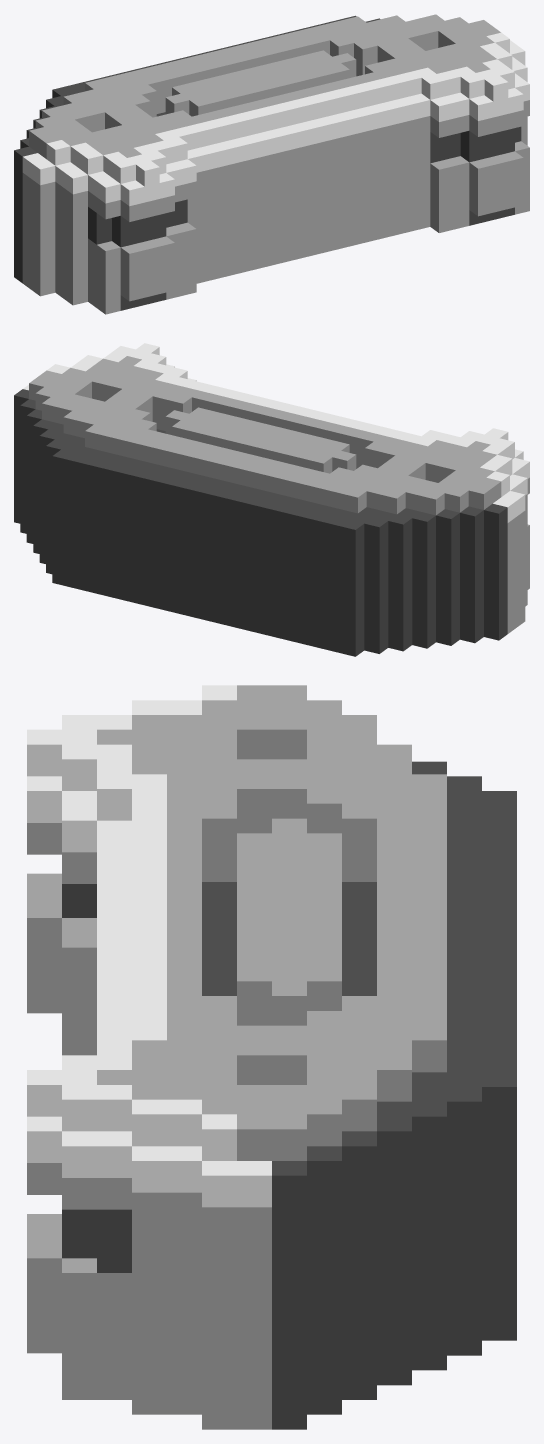
The model's file is InfoConsoleN.obj.
3 renders of one model, top to bottom at view 1: azimuth 30°, elevation 25°; view 2: azimuth 150°, elevation 25°; view 3: azimuth 270°, elevation 25°, orthographic. The views are drawn at different scales.
Size of the model in its own units: 32 by 9 by 14.
Materials: 1 (1 with a texture image).
